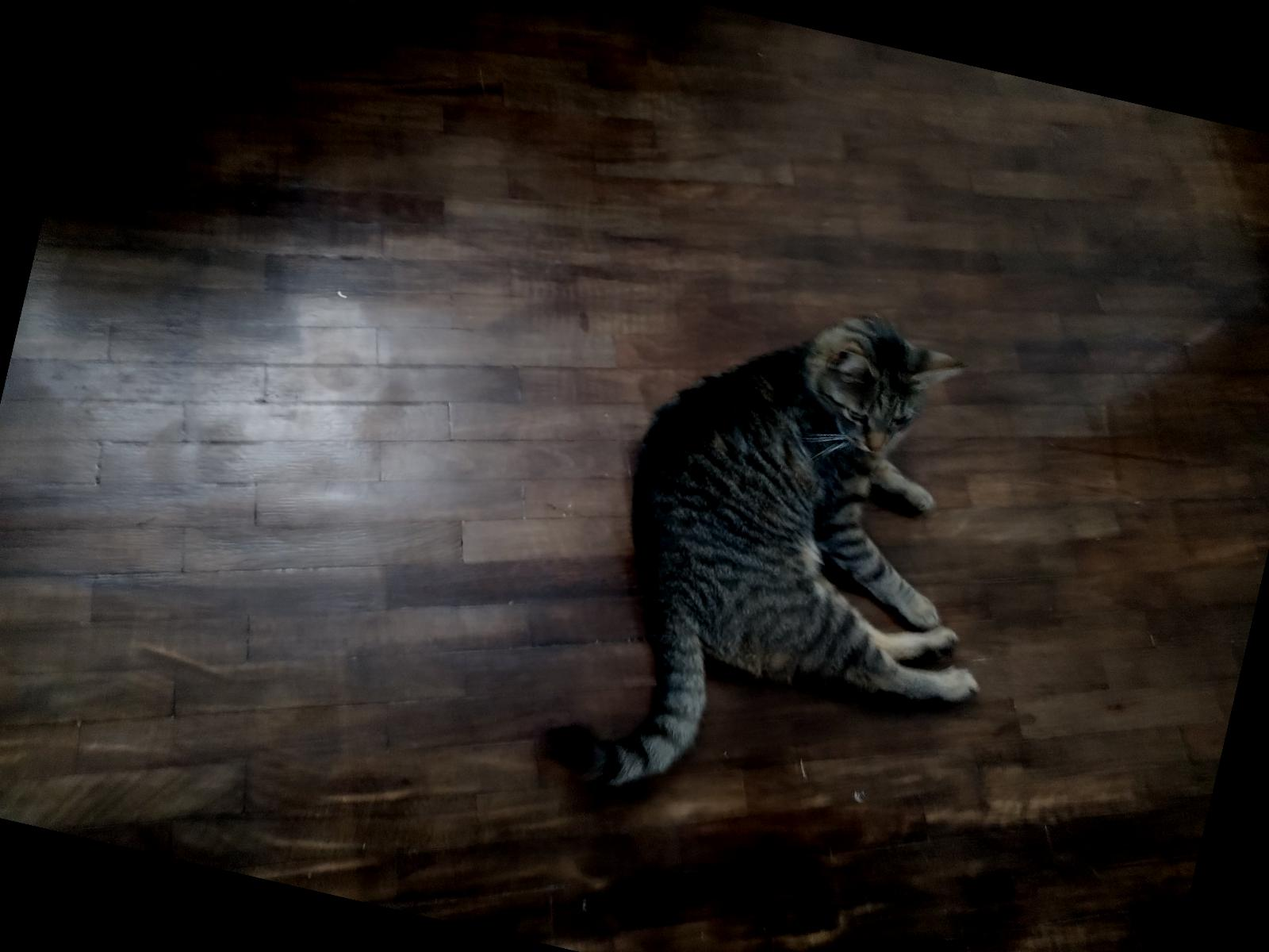macka: (539, 263, 1059, 869)
